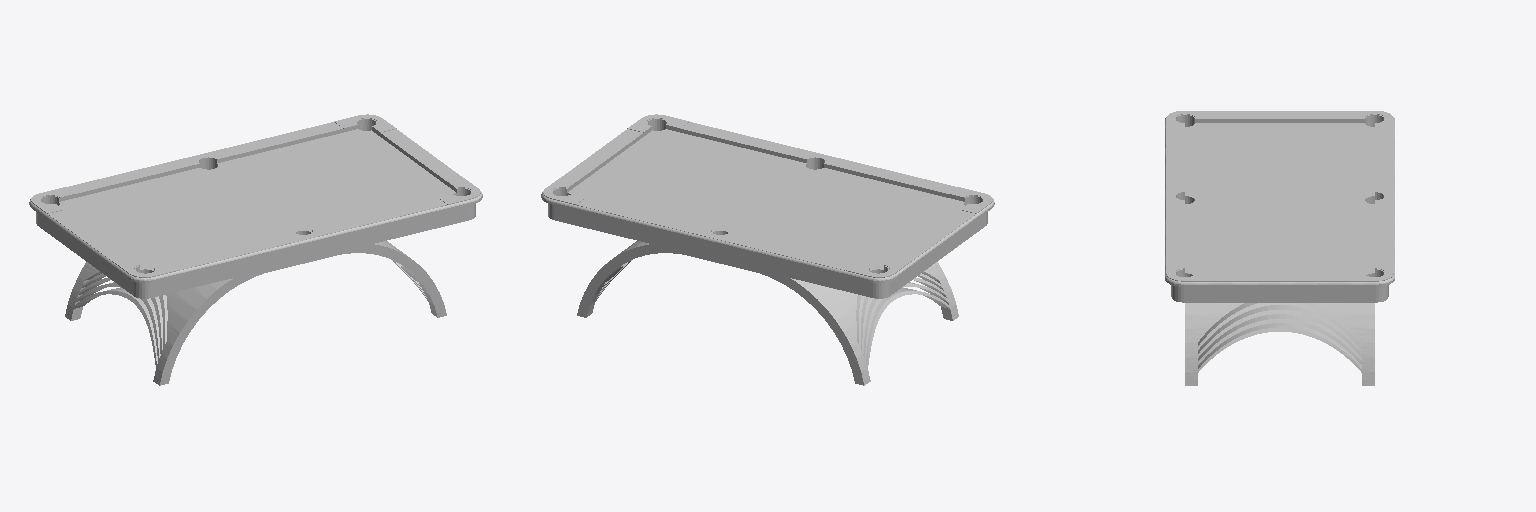
Rendered from table.obj.
The picture shows the model from 3 angles: view 1: azimuth 30°, elevation 25°; view 2: azimuth 150°, elevation 25°; view 3: azimuth 270°, elevation 25°; orthographic projection.
Visible parts, largest first — view 1: _Joined_Solid_Geometry_[4772], _Joined_Solid_Geometry_[4734], _Joined_Solid_Geometry_[4976], _Joined_Solid_Geometry_[4761]; view 2: _Joined_Solid_Geometry_[4772], _Joined_Solid_Geometry_[4734], _Joined_Solid_Geometry_[4976], _Joined_Solid_Geometry_[4761]; view 3: _Joined_Solid_Geometry_[4772], _Joined_Solid_Geometry_[4734], _Joined_Solid_Geometry_[4976], _Joined_Solid_Geometry_[4761].
Boxes of the visible parts, box(x1,y1,x2,y2) form: _Joined_Solid_Geometry_[4772]: box(59, 129, 456, 271); _Joined_Solid_Geometry_[4734]: box(29, 118, 482, 282); _Joined_Solid_Geometry_[4976]: box(65, 241, 446, 385); _Joined_Solid_Geometry_[4761]: box(36, 124, 475, 298); _Joined_Solid_Geometry_[4772]: box(567, 129, 964, 271); _Joined_Solid_Geometry_[4734]: box(541, 118, 994, 282); _Joined_Solid_Geometry_[4976]: box(577, 241, 958, 385); _Joined_Solid_Geometry_[4761]: box(548, 124, 987, 298); _Joined_Solid_Geometry_[4772]: box(1185, 123, 1374, 275); _Joined_Solid_Geometry_[4734]: box(1165, 111, 1394, 286); _Joined_Solid_Geometry_[4976]: box(1185, 303, 1374, 385); _Joined_Solid_Geometry_[4761]: box(1171, 120, 1388, 302).
Size of the model in its own units: 2.95 by 0.9631 by 1.68.